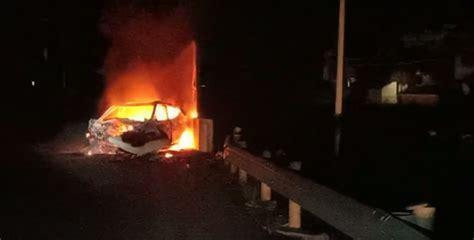smoke: (107, 102, 199, 117), (163, 122, 203, 150)
